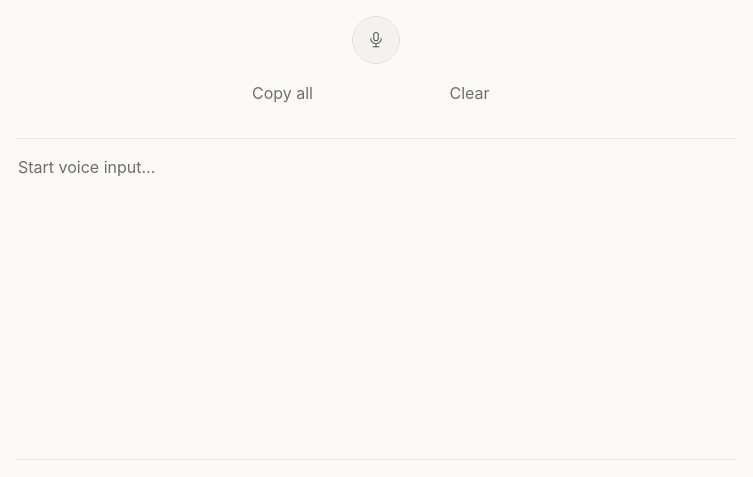
Test: VoiceView › copies the whole transcript
Type "spoken words" into the text box with placeholder "Start voice input…" at (376, 299), box [16,139,736,459]
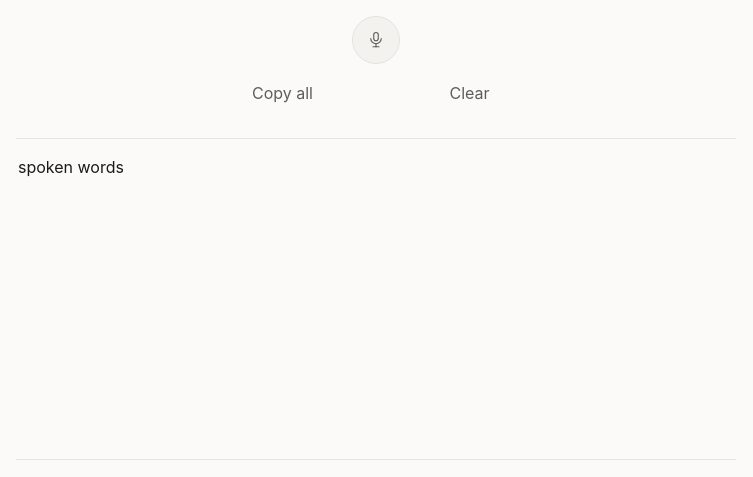
Click the button "Copy all" at (282, 93), box [191,76,374,110]
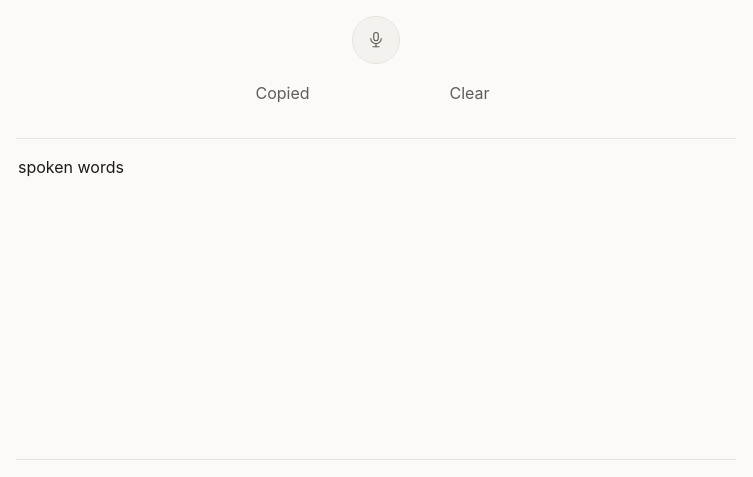
Now the button "Copied" is shown, box [191,76,374,110]
